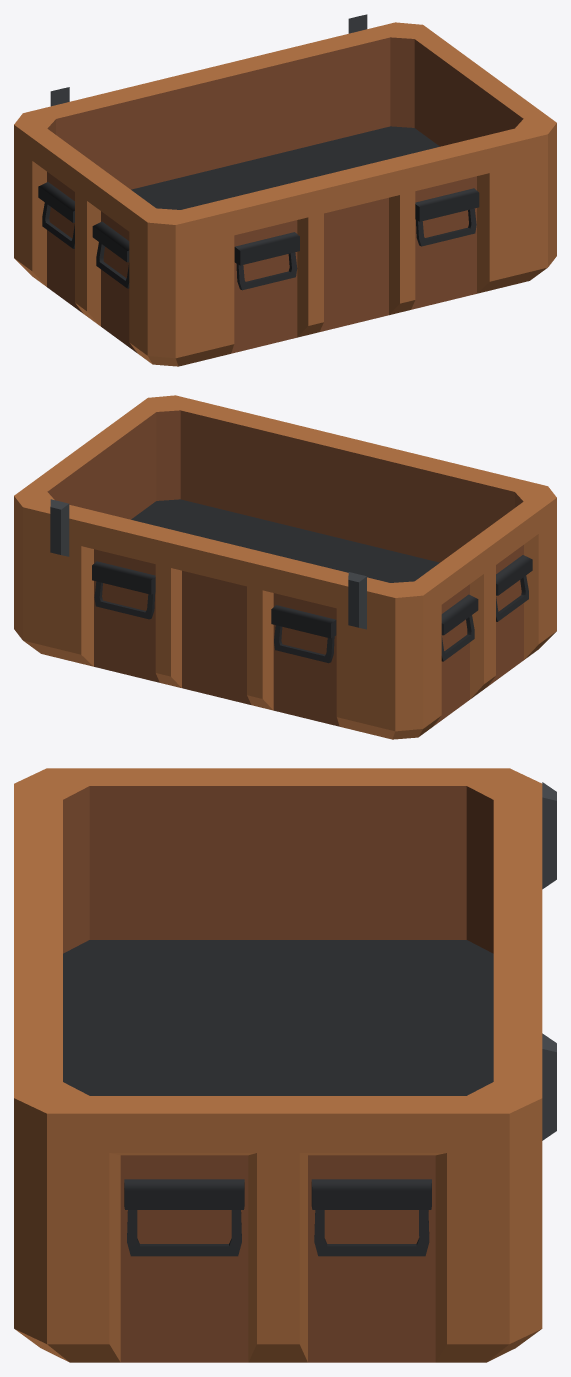
The model's file is SM_Prop_Crate_Plastic_02.fbx.
3 renders of one model, top to bottom at view 1: azimuth 30°, elevation 25°; view 2: azimuth 150°, elevation 25°; view 3: azimuth 270°, elevation 25°, orthographic. The views are drawn at different scales.
Visible parts, largest first — view 1: SM_Prop_Crate_Plastic_02; view 2: SM_Prop_Crate_Plastic_02; view 3: SM_Prop_Crate_Plastic_02.
Part boxes in pixels (left/top/right/bottom): SM_Prop_Crate_Plastic_02: left=14, top=14, right=556, bottom=366; SM_Prop_Crate_Plastic_02: left=14, top=395, right=556, bottom=739; SM_Prop_Crate_Plastic_02: left=14, top=768, right=556, bottom=1362.
Bounding box in the file's own units: 120 × 46.15 × 79.8.
